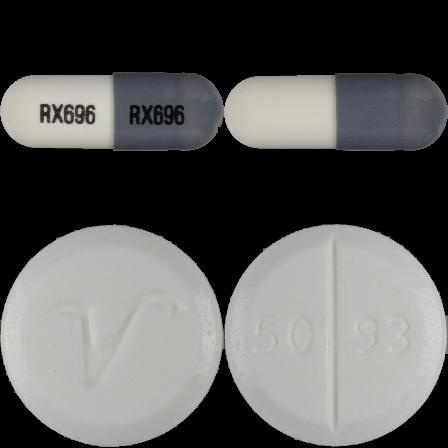63187-036: (0, 0, 224, 224)
